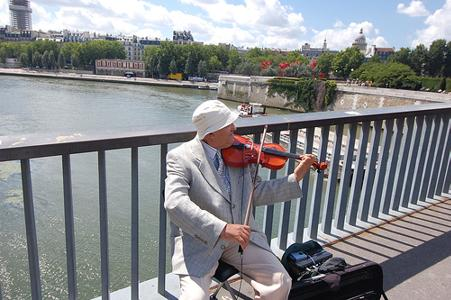person: (165, 99, 320, 300)
